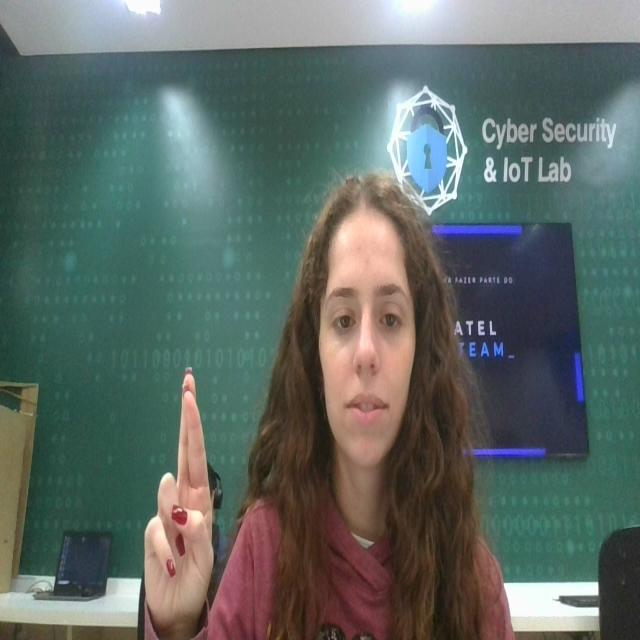R: (140, 358, 224, 633)
